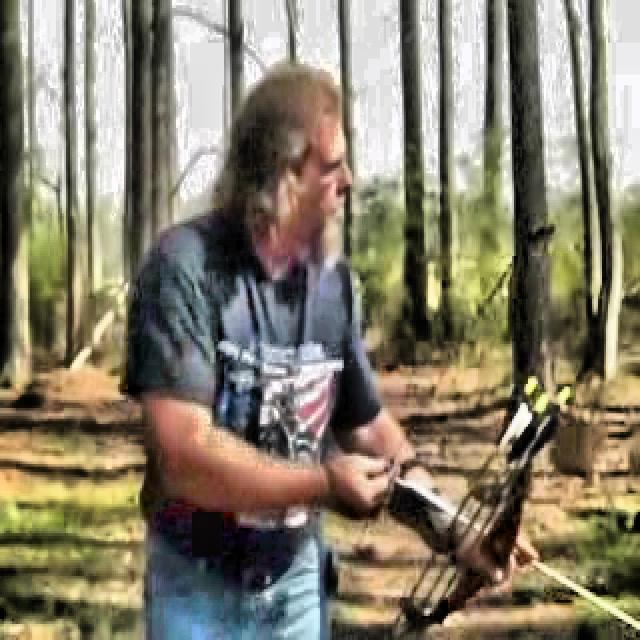I: (119, 62, 537, 572)
